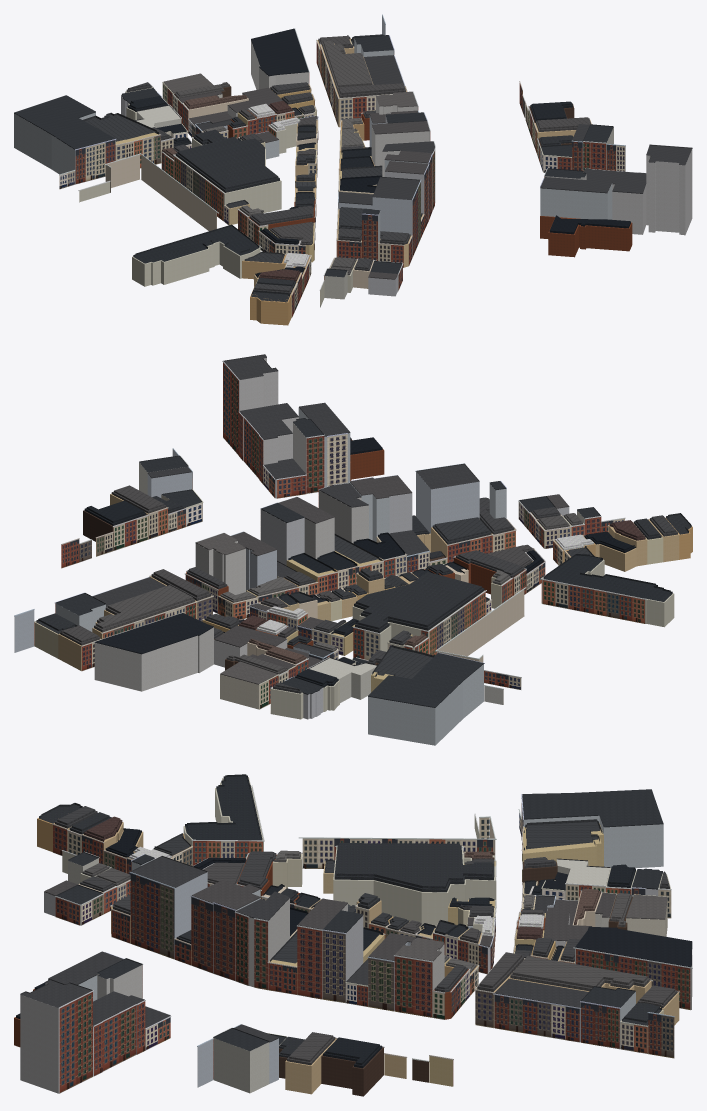
The picture shows the model from 3 angles, top to bottom: view 1: azimuth 30°, elevation 25°; view 2: azimuth 150°, elevation 25°; view 3: azimuth 270°, elevation 25°; orthographic projection. The views are drawn at different scales.
Parts seen in each view (by area): view 1: bldg_497715906_roof_b, bldg_469120856, bldg_497996233, bldg_494832636_roof, bldg_469120863, bldg_494832636, bldg_469120849, bldg_497715913_facade2, bldg_494838080_roof, bldg_497996233_roof_b, bldg_494855645_roof_b, bldg_497715906 (+38 smaller); view 2: bldg_494838080, bldg_494832636, bldg_497715906_roof_b, bldg_494832636_roof, bldg_497996233_facade1, bldg_497715883, bldg_494838080_roof, bldg_497715913_facade2, bldg_497996233_roof_b, bldg_494855645_roof_b, bldg_497715898, bldg_497828175 (+49 smaller); view 3: bldg_497715906_roof_b, bldg_497715906, bldg_494832636_roof, bldg_469120856, bldg_497715883_facade0, bldg_497828176_facade0, bldg_469120856_facade0, bldg_494838080_roof, bldg_494832636, bldg_494838080_facade0, bldg_497728391, bldg_497996233_roof_b (+64 smaller).
Part boxes in pixels (x1,y1,x2,y2): bldg_497715906_roof_b: (177, 129, 278, 189); bldg_469120856: (646, 149, 692, 235); bldg_497996233: (132, 241, 260, 286); bldg_494832636_roof: (14, 95, 115, 149); bldg_469120863: (540, 216, 632, 257); bldg_494832636: (14, 112, 115, 183); bldg_469120849: (540, 183, 612, 219); bldg_497715913_facade2: (140, 153, 218, 231); bldg_494838080_roof: (251, 28, 308, 76); bldg_497996233_roof_b: (135, 224, 257, 260); bldg_494855645_roof_b: (323, 40, 371, 87); bldg_497715906: (175, 138, 281, 220); bldg_494838080: (94, 627, 213, 691); bldg_494832636: (368, 664, 483, 745); bldg_497715906_roof_b: (356, 572, 482, 629); bldg_494832636_roof: (368, 653, 483, 707); bldg_497996233_facade1: (540, 578, 647, 623); bldg_497715883: (416, 472, 479, 533); bldg_494838080_roof: (94, 613, 213, 654); bldg_497715913_facade2: (435, 587, 526, 656); bldg_497996233_roof_b: (545, 554, 670, 598); bldg_494855645_roof_b: (96, 585, 192, 628); bldg_497715898: (195, 541, 245, 594); bldg_497828175: (261, 509, 304, 565); bldg_497715906_roof_b: (336, 843, 492, 888); bldg_497715906: (333, 847, 495, 926); bldg_494832636_roof: (522, 789, 663, 827); bldg_469120856: (20, 982, 59, 1093); bldg_497715883_facade0: (129, 872, 175, 959); bldg_497828176_facade0: (493, 993, 581, 1042); bldg_469120856_facade0: (58, 990, 93, 1093); bldg_494838080_roof: (575, 926, 692, 967); bldg_494832636: (522, 798, 663, 868); bldg_494838080_facade0: (573, 947, 692, 1010); bldg_497728391: (213, 1038, 269, 1093); bldg_497996233_roof_b: (187, 774, 260, 837).
Size of the model in its own units: 286 by 39.46 by 281.
114 materials, 50 textured.
